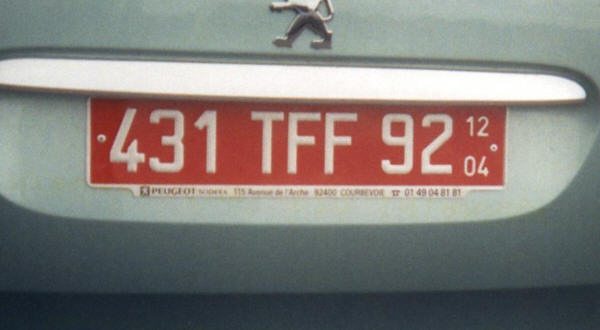license_plate: (86, 96, 508, 192)
